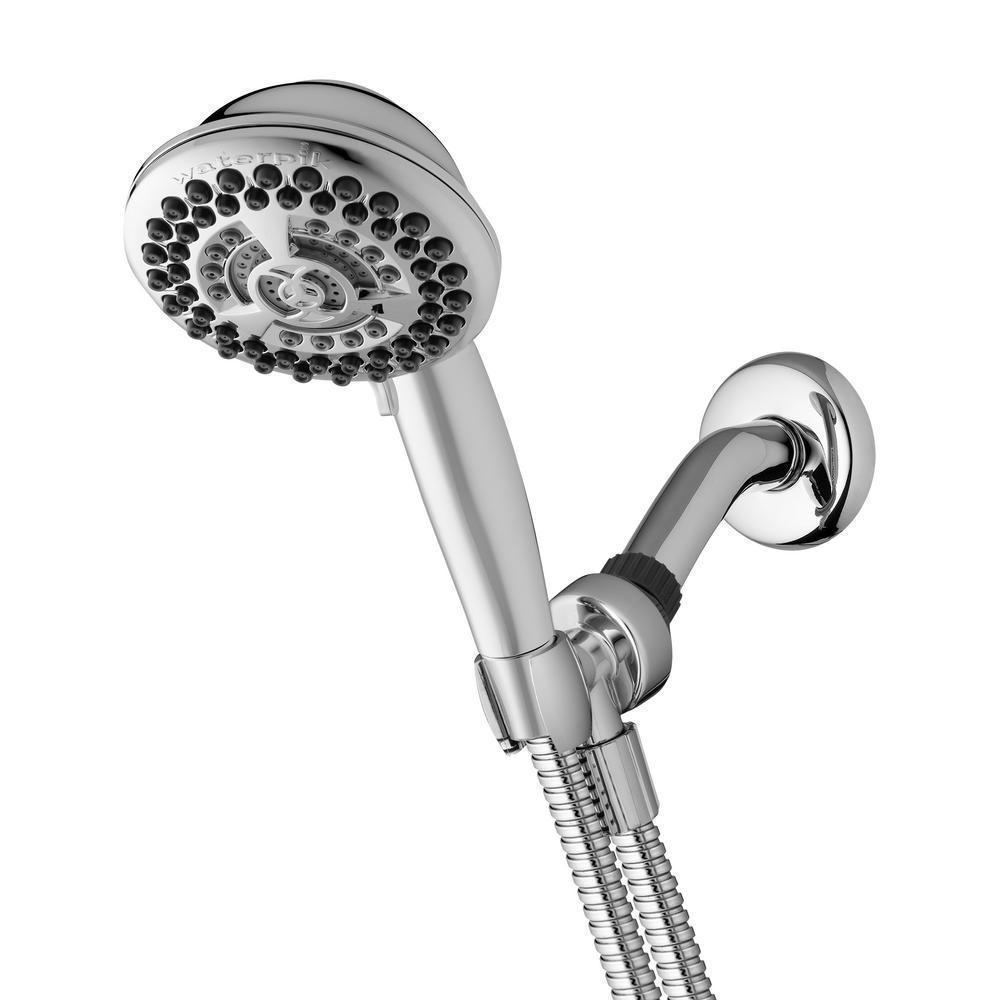Ducha: (122, 3, 999, 999)
